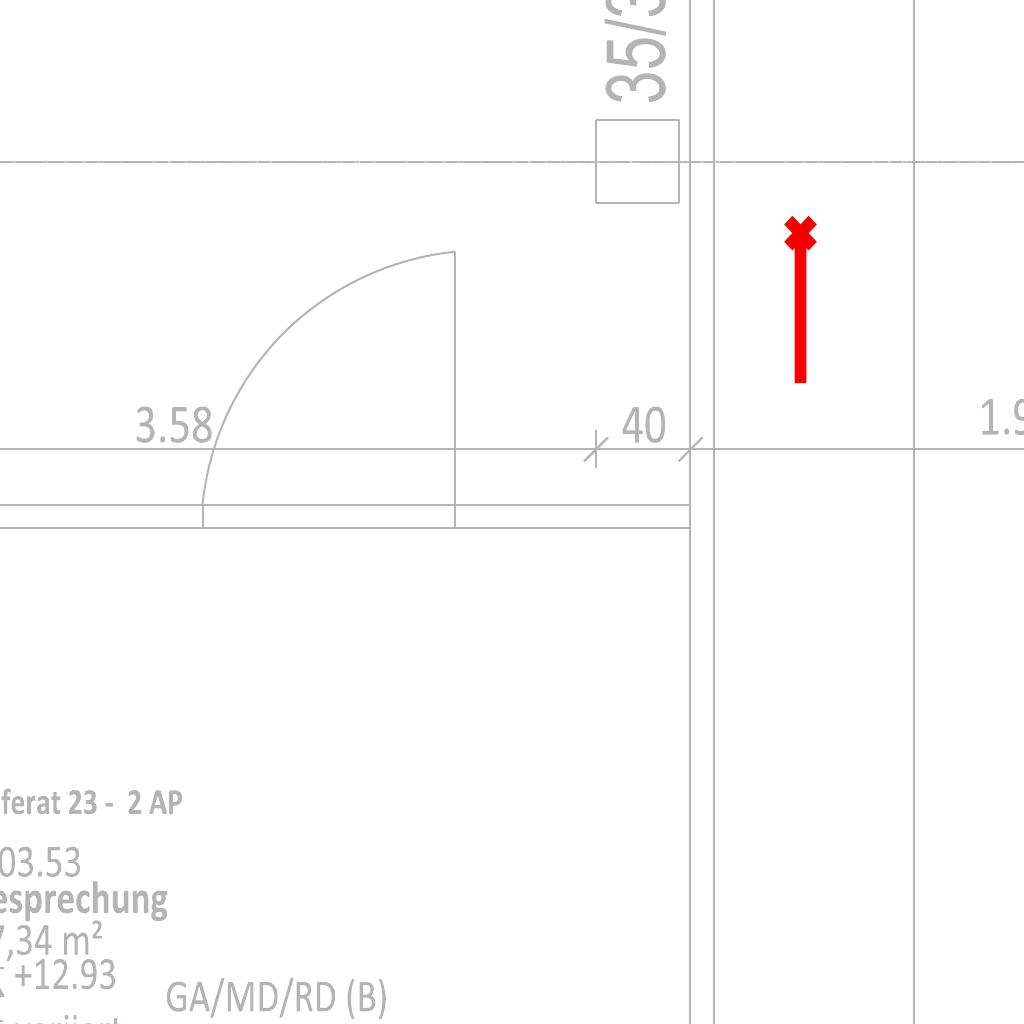ASR_Ansaugoeffnung: (780, 213, 826, 389)
